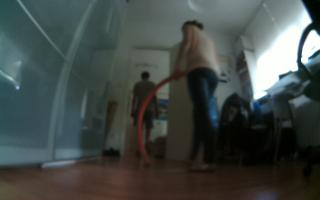person: (172, 16, 224, 174), (125, 63, 163, 161)
